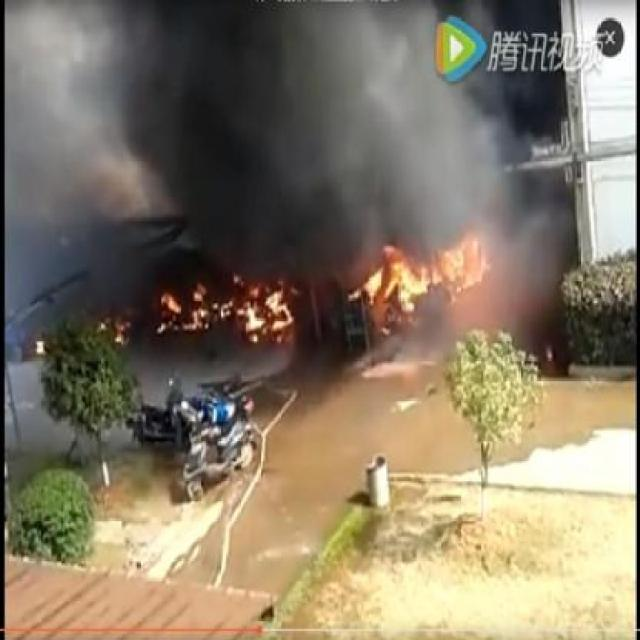Fire: (348, 238, 489, 320), (163, 276, 296, 353), (97, 316, 126, 348), (34, 342, 44, 354)
Smoke: (32, 2, 442, 258), (447, 84, 578, 264)
